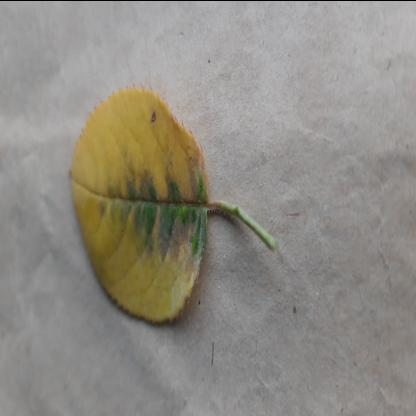black-spot: (69, 93, 209, 330)
